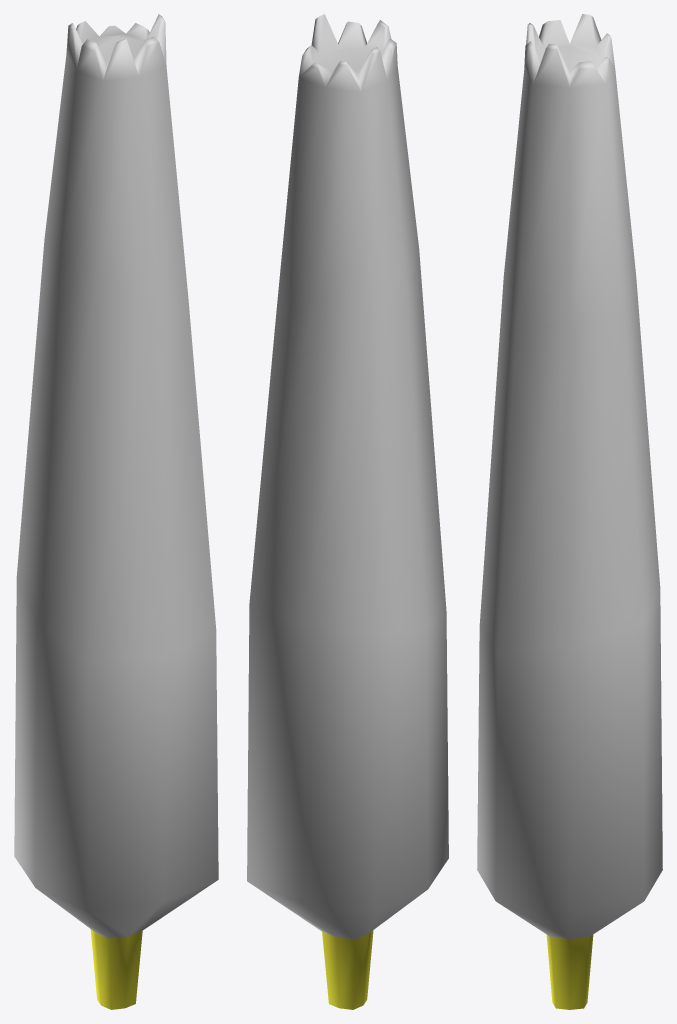
File: Cypress_v2.fbx
3 renders of one model, left to right at view 1: azimuth 30°, elevation 25°; view 2: azimuth 150°, elevation 25°; view 3: azimuth 270°, elevation 25°, orthographic.
Parts seen in each view (by area): view 1: Cypress_LOD0; view 2: Cypress_LOD0; view 3: Cypress_LOD0.
Part boxes in pixels (left/top/right/bottom): Cypress_LOD0: left=14, top=14, right=218, bottom=1009; Cypress_LOD0: left=247, top=14, right=448, bottom=1009; Cypress_LOD0: left=477, top=14, right=662, bottom=1009.
Size of what is drawn, in the model's own units: 277 by 1604 by 277.
